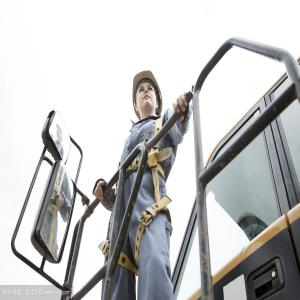white: (133, 71, 165, 120)
